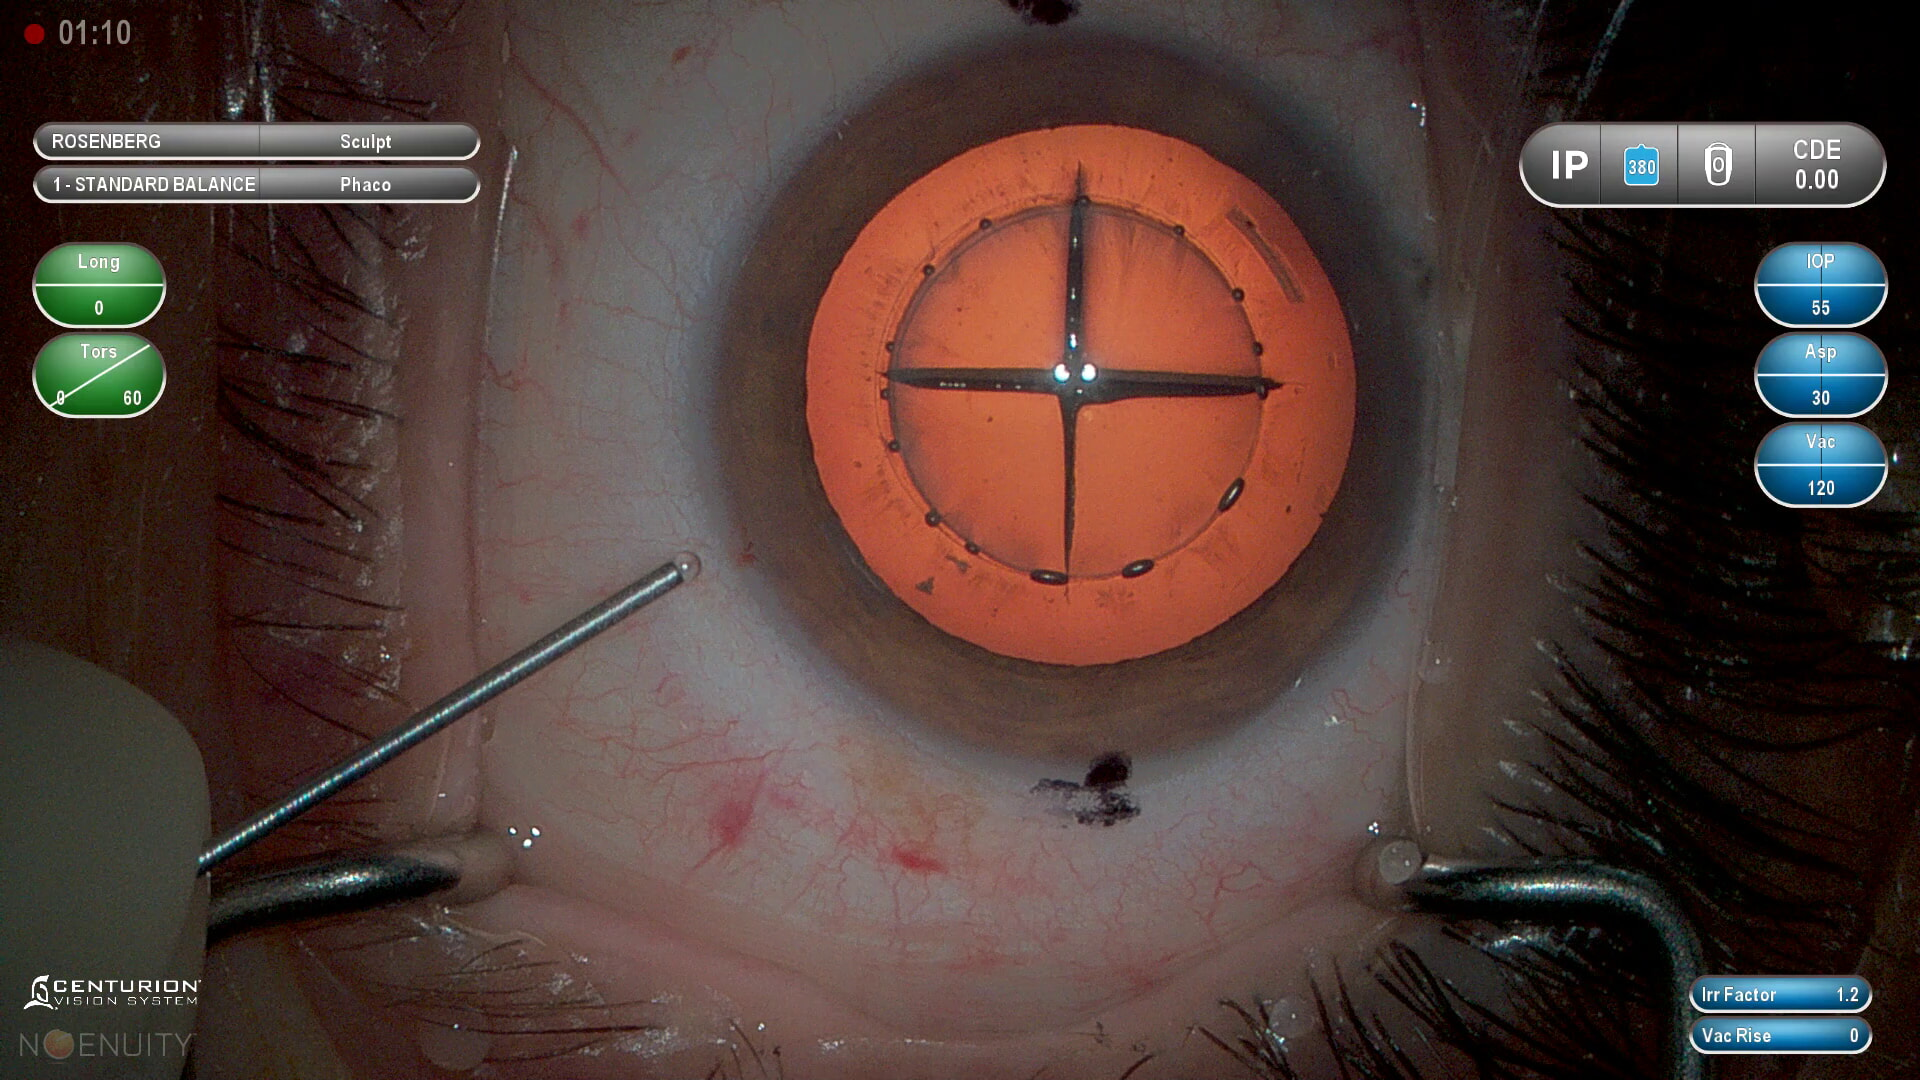iris: (713, 31, 1423, 760)
pupil: (799, 117, 1364, 665)
